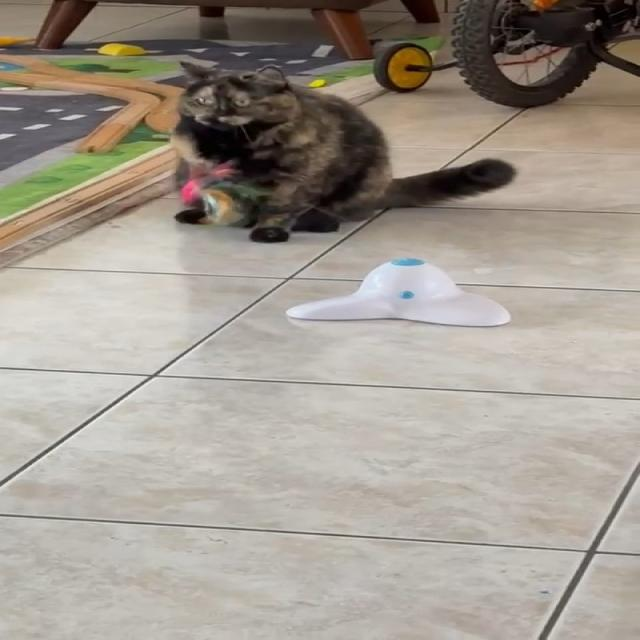authorized: (168, 60, 517, 243)
